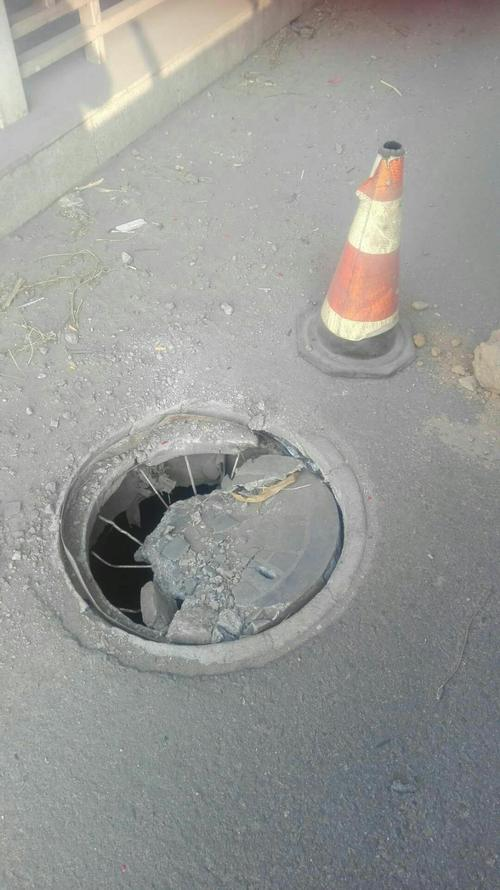broke: (16, 378, 380, 669)
